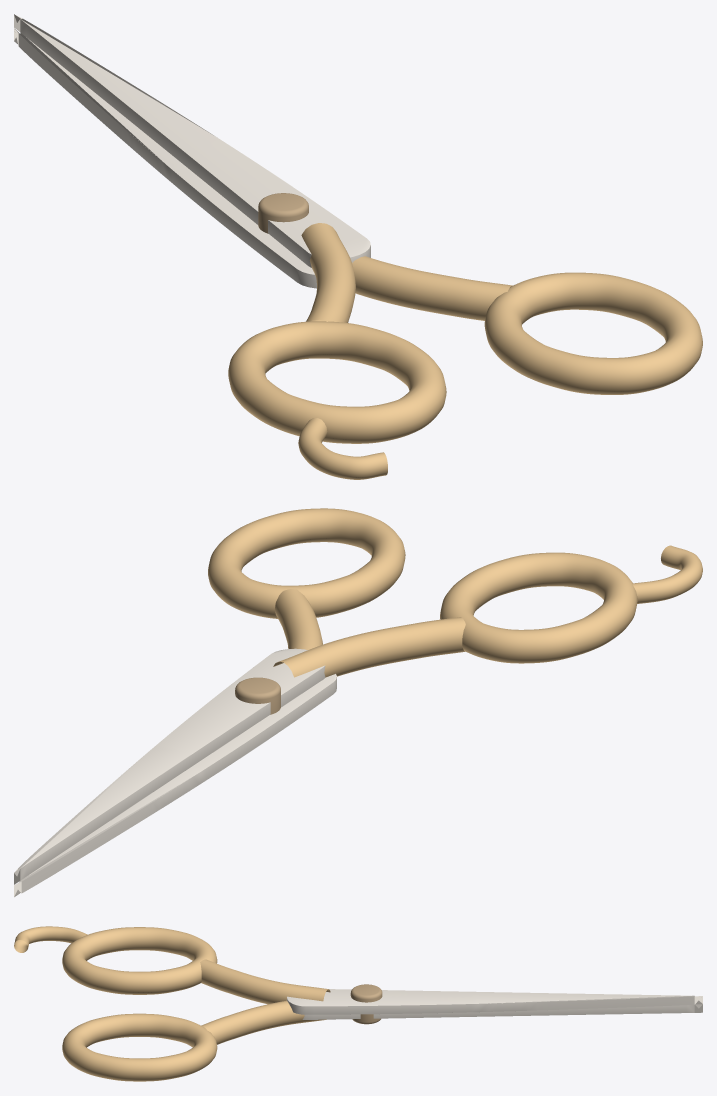
The model's file is shears.glb.
3 renders of one model, top to bottom at view 1: azimuth 30°, elevation 25°; view 2: azimuth 150°, elevation 25°; view 3: azimuth 270°, elevation 25°, orthographic. The views are drawn at different scales.
Visible parts, largest first — view 1: HalfA, HalfB, Pivot; view 2: HalfA, HalfB, Pivot; view 3: HalfA, HalfB, Pivot.
Boxes of the visible parts, x1,y1,x2,y2 form: HalfA: (14, 14, 446, 479); HalfB: (14, 28, 702, 394); Pivot: (258, 193, 308, 233); HalfA: (14, 545, 702, 884); HalfB: (14, 508, 405, 897); Pivot: (235, 677, 280, 714); HalfA: (14, 926, 702, 1014); HalfB: (62, 1000, 702, 1081); Pivot: (350, 984, 382, 1024).
Bounding box in the file's own units: 2.43 × 0.256 × 5.22.
